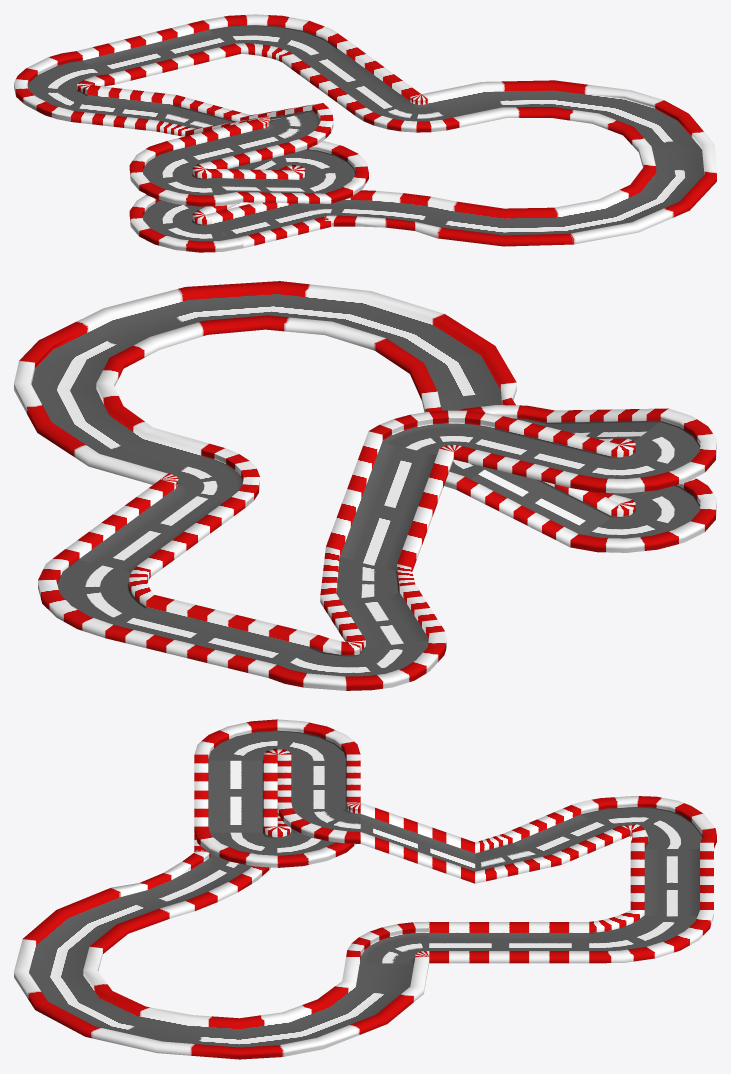
Rendered from Stage1.fbx.
The picture shows the model from 3 angles, top to bottom: view 1: azimuth 30°, elevation 25°; view 2: azimuth 150°, elevation 25°; view 3: azimuth 270°, elevation 25°; orthographic projection. The views are drawn at different scales.
Visible parts, largest first — view 1: nurbsToPoly17, nurbsToPoly3, nurbsToPoly1, nurbsToPoly16, nurbsToPoly2, nurbsToPoly10, nurbsToPoly4, nurbsToPoly14, nurbsToPoly9, nurbsToPoly15, nurbsToPoly12, nurbsToPoly5 (+6 smaller); view 2: nurbsToPoly17, nurbsToPoly7, nurbsToPoly3, nurbsToPoly1, nurbsToPoly10, nurbsToPoly4, nurbsToPoly2, nurbsToPoly14, nurbsToPoly9, nurbsToPoly13, nurbsToPoly5, nurbsToPoly8 (+5 smaller); view 3: nurbsToPoly17, nurbsToPoly1, nurbsToPoly11, nurbsToPoly3, nurbsToPoly10, nurbsToPoly16, nurbsToPoly4, nurbsToPoly2, nurbsToPoly7, nurbsToPoly12, nurbsToPoly9, nurbsToPoly5 (+3 smaller).
Part boxes in pixels (x1,y1,x2,y2): nurbsToPoly17: (422,80,716,246); nurbsToPoly3: (77,20,241,84); nurbsToPoly1: (282,40,420,115); nurbsToPoly16: (299,190,456,238); nurbsToPoly2: (203,14,347,61); nurbsToPoly10: (129,141,243,206); nurbsToPoly4: (14,51,114,121); nurbsToPoly14: (129,194,243,252); nurbsToPoly9: (167,119,295,169); nurbsToPoly15: (205,202,330,248); nurbsToPoly12: (270,141,368,203); nurbsToPoly5: (70,85,175,131); nurbsToPoly17: (14,281,516,484); nurbsToPoly7: (326,431,453,571); nurbsToPoly3: (105,595,317,677); nurbsToPoly1: (66,479,245,576); nurbsToPoly10: (570,408,716,493); nurbsToPoly4: (268,631,446,690); nurbsToPoly2: (38,549,154,637); nurbsToPoly14: (570,477,716,552); nurbsToPoly9: (453,416,619,487); nurbsToPoly13: (456,467,618,546); nurbsToPoly5: (320,584,444,647); nurbsToPoly8: (369,410,502,455); nurbsToPoly17: (14,888,429,1059); nurbsToPoly1: (429,922,589,963); nurbsToPoly11: (194,754,277,832); nurbsToPoly3: (630,842,713,916); nurbsToPoly10: (194,719,360,760); nurbsToPoly16: (111,849,271,918); nurbsToPoly4: (572,796,716,848); nurbsToPoly2: (589,910,713,963); nurbsToPoly7: (360,803,475,883); nurbsToPoly12: (194,826,355,867); nurbsToPoly9: (277,754,360,808); nurbsToPoly5: (503,805,630,864).
Size of the model in its own units: 1211 by 112 by 1269.
1 material, 1 textured.
